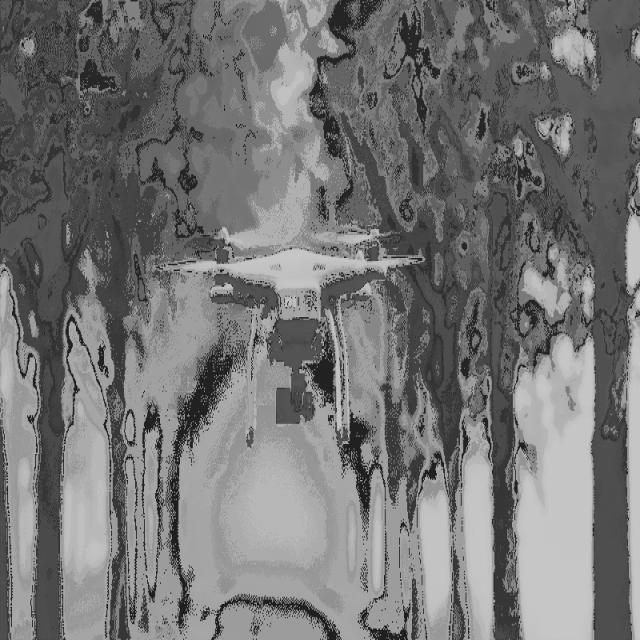drones: (160, 216, 427, 449)
